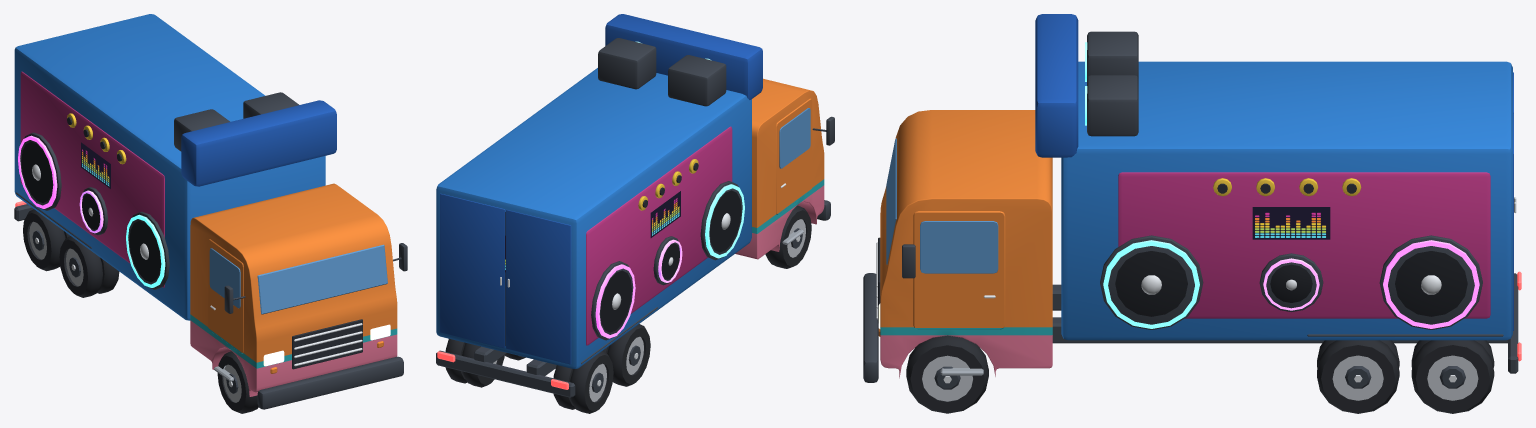
Rendered from caminhao_som.glb.
3 views of the same model, side by side, from view 1: azimuth 30°, elevation 25°; view 2: azimuth 150°, elevation 25°; view 3: azimuth 270°, elevation 25° (orthographic). The views are drawn at different scales.
Parts seen in each view (by area): view 1: caminhao_som, porta_1, roda_3, roda_5, roda_1; view 2: caminhao_som, porta_traseira_1, porta_traseira_2, porta_1, roda_5, roda_3, roda_1, roda_6; view 3: caminhao_som, porta_2, roda_6, roda_4, roda_2.
Part boxes in pixels (box(x1,y1,x2,y2)): caminhao_som: box(14, 14, 407, 409); porta_1: box(208, 239, 243, 353); roda_3: box(59, 236, 119, 297); roda_5: box(23, 209, 70, 271); roda_1: box(217, 351, 258, 413); caminhao_som: box(436, 14, 834, 397); porta_traseira_1: box(506, 209, 571, 364); porta_traseira_2: box(440, 193, 505, 348); porta_1: box(776, 98, 812, 214); roda_5: box(553, 351, 613, 413); roda_3: box(603, 324, 650, 386); roda_1: box(765, 205, 811, 268); roda_6: box(445, 338, 504, 387); caminhao_som: box(863, 14, 1521, 382); porta_2: box(913, 211, 1005, 329); roda_6: box(1411, 340, 1494, 413); roda_4: box(1317, 340, 1399, 413); roda_2: box(906, 335, 988, 413).
Size of the model in its own units: 3.11 by 4.05 by 7.65.
Materials: 8 (2 with a texture image).
